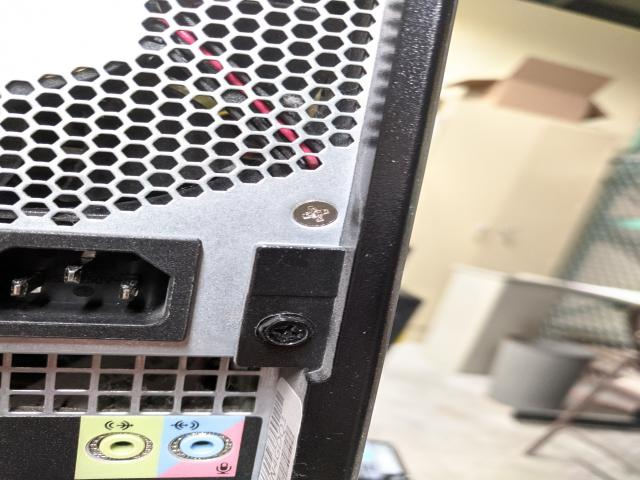CRS: (256, 313, 314, 349), (292, 200, 342, 230)
